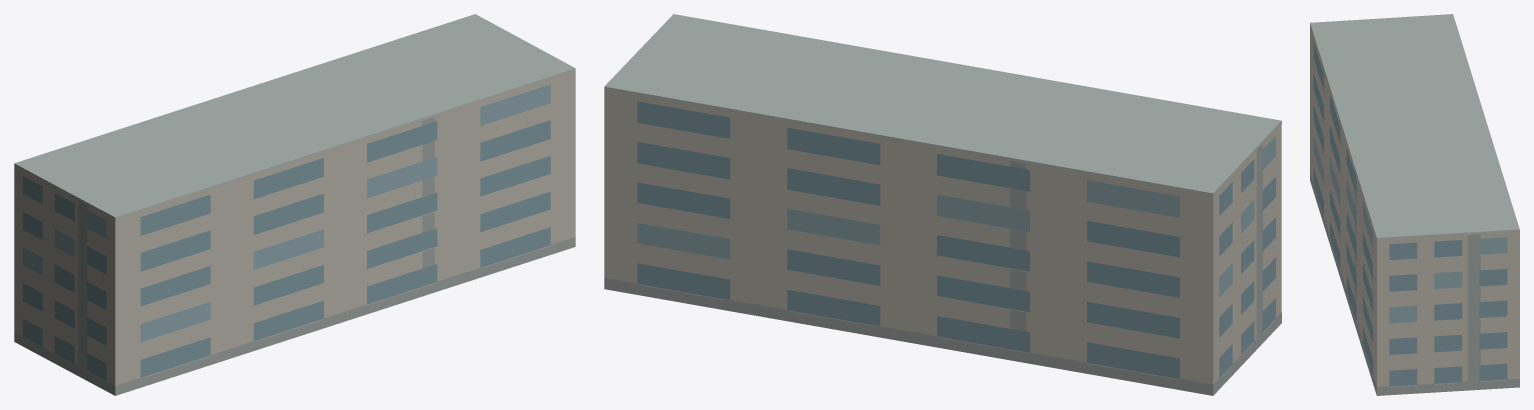
Rendered from survey-upis-32849141.glb.
3 views of the same model, side by side, from view 1: azimuth 30°, elevation 25°; view 2: azimuth 150°, elevation 25°; view 3: azimuth 270°, elevation 25° (orthographic). The views are drawn at different scales.
Visible parts, largest first — view 1: survey-upis-32849141.tmp; view 2: survey-upis-32849141.tmp; view 3: survey-upis-32849141.tmp.
Boxes of the visible parts, x1,y1,x2,y2 form: survey-upis-32849141.tmp: (14,14,575,395); survey-upis-32849141.tmp: (604,14,1281,395); survey-upis-32849141.tmp: (1310,14,1519,395).
Size of the model in its own units: 46.37 by 15.25 by 18.36.
